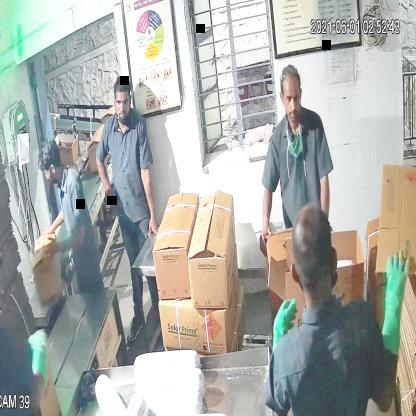no_goggles: (277, 88, 306, 109), (111, 92, 134, 112)
